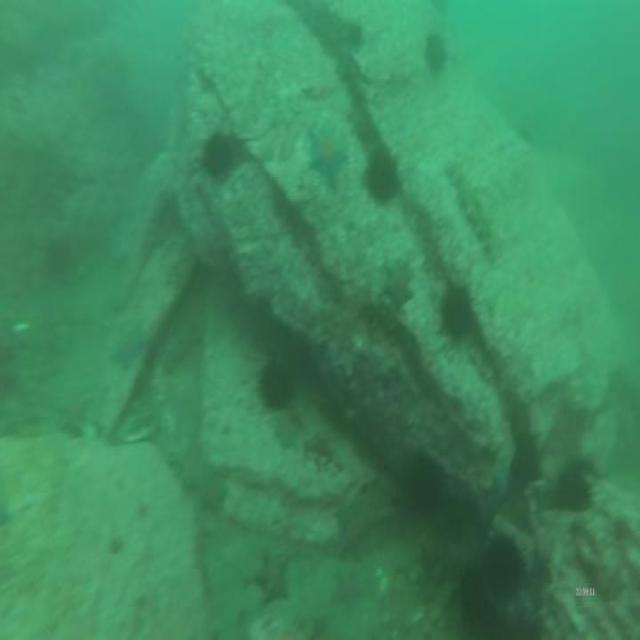echinus: (487, 537, 519, 599), (409, 455, 442, 511), (365, 147, 395, 204), (203, 136, 236, 182), (260, 360, 292, 403), (443, 286, 471, 335), (514, 434, 540, 484), (559, 471, 589, 512), (426, 33, 446, 71)
holothurian: (444, 166, 498, 259)
starfish: (312, 130, 347, 183), (338, 503, 368, 561), (253, 555, 290, 602), (382, 258, 411, 306), (113, 331, 147, 364), (333, 572, 362, 608)
